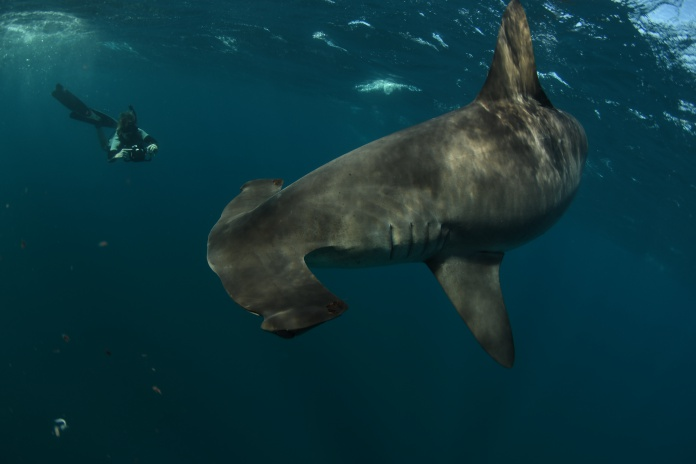Hammer: (183, 7, 630, 376)
